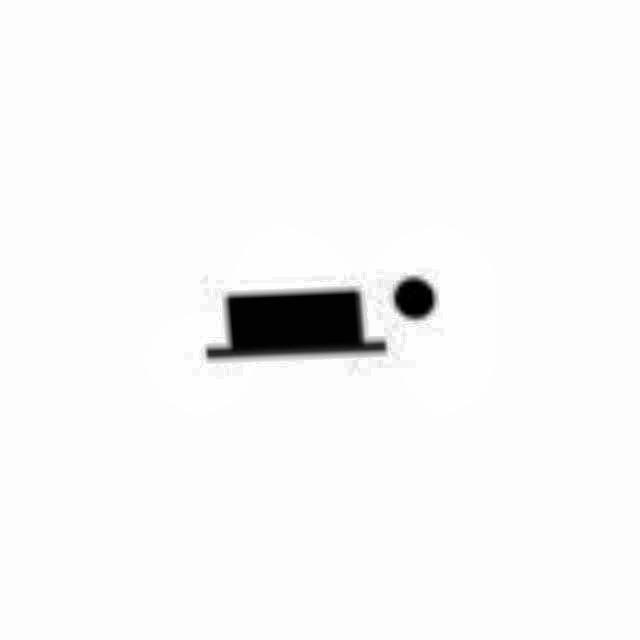Half-rest: (180, 265, 460, 375)
